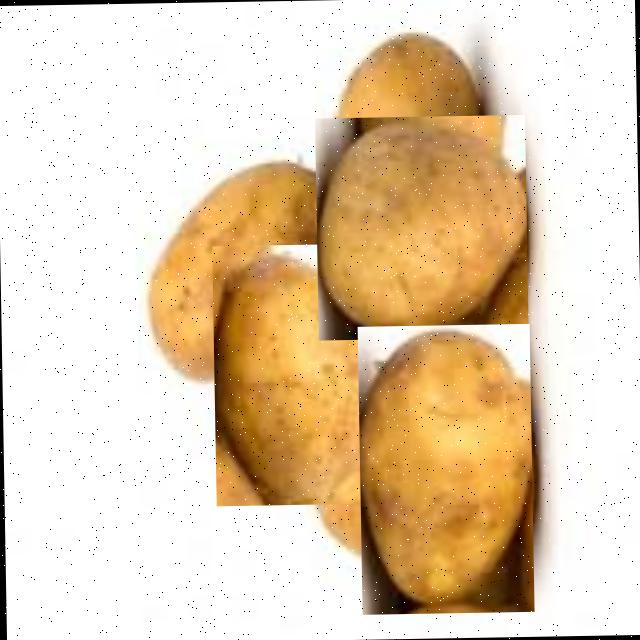Potato: (356, 323, 533, 614), (314, 114, 528, 340), (210, 243, 374, 506)
